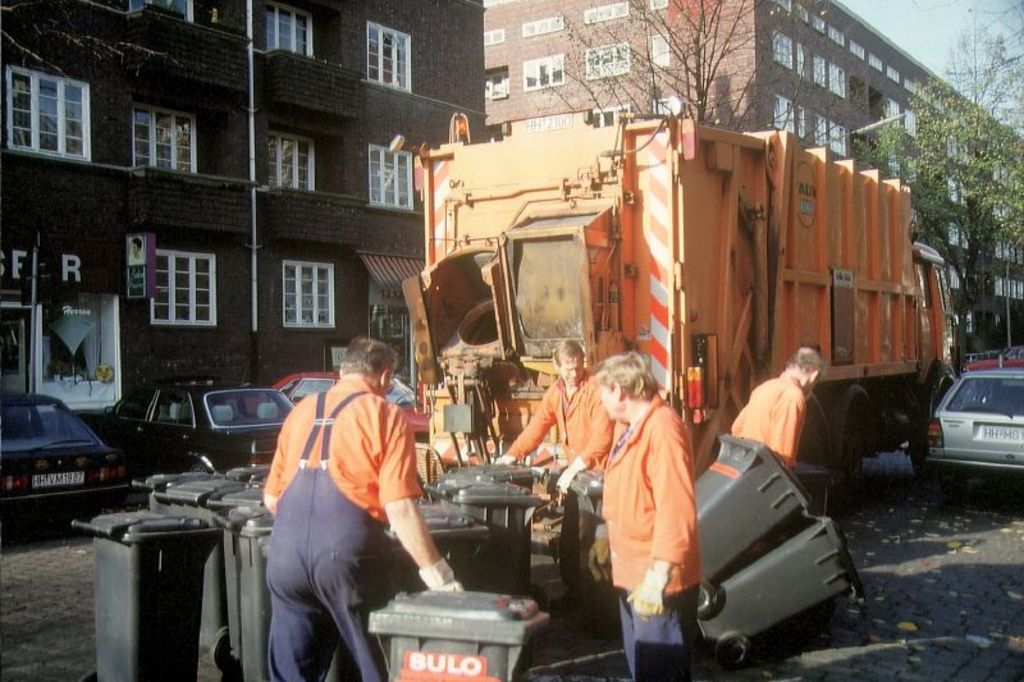Car: (72, 377, 295, 477), (2, 387, 135, 502), (239, 372, 432, 445), (926, 367, 1022, 491), (985, 345, 1022, 364)
